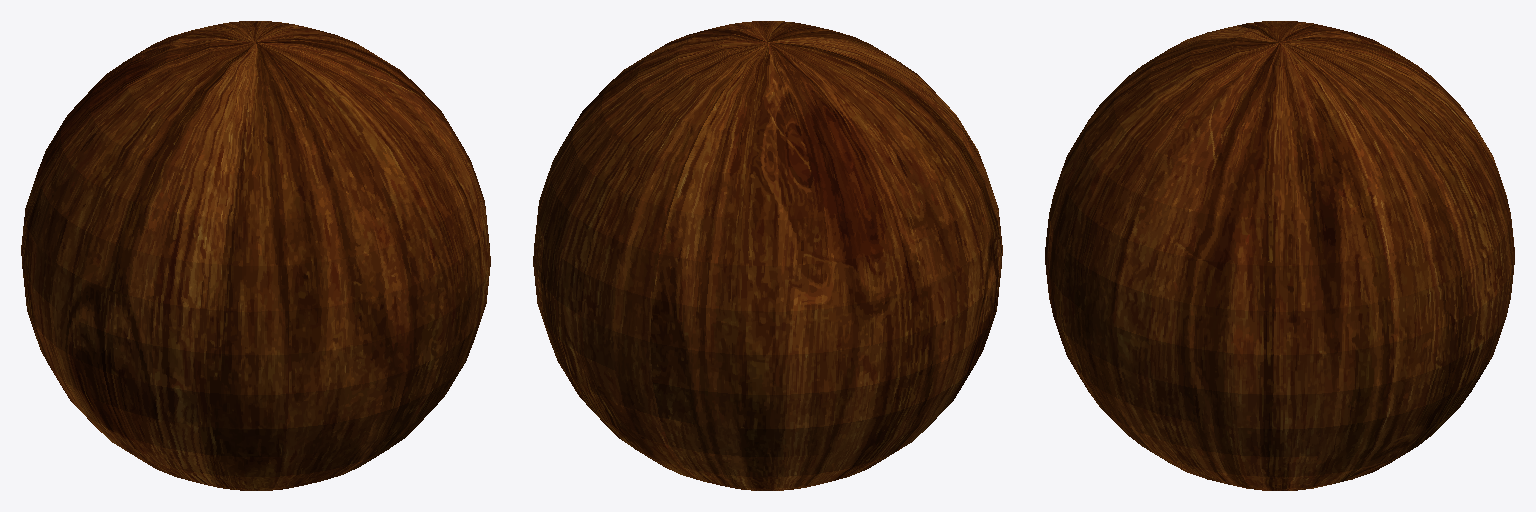
3 views of the same model, side by side, from view 1: azimuth 30°, elevation 25°; view 2: azimuth 150°, elevation 25°; view 3: azimuth 270°, elevation 25° (orthographic).
Visible parts, largest first — view 1: Sphere001; view 2: Sphere001; view 3: Sphere001.
Boxes of the visible parts, x1,y1,x2,y2 form: Sphere001: [21, 21, 490, 490]; Sphere001: [533, 21, 1002, 490]; Sphere001: [1045, 21, 1514, 490].
Size of the model in its own units: 30.23 by 30.23 by 30.23.
1 materials, 1 textured.